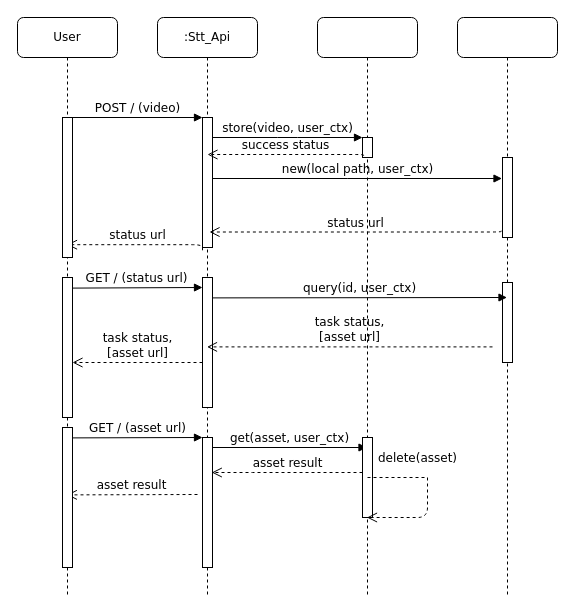
Image size: 575x615. Some labels were removed from this diagram. Here are the shapes that lost their labels. From the top down, the centre of each, then its label:
(367,307): :Storage_Mgr
(507,307): :Api_State
